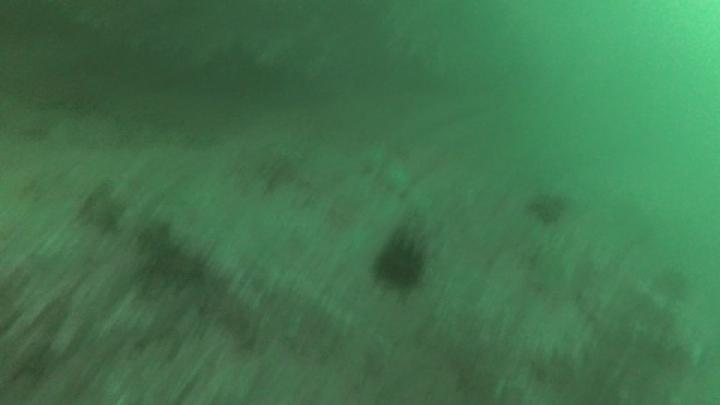echinus: (374, 246, 423, 294), (528, 195, 564, 224)
